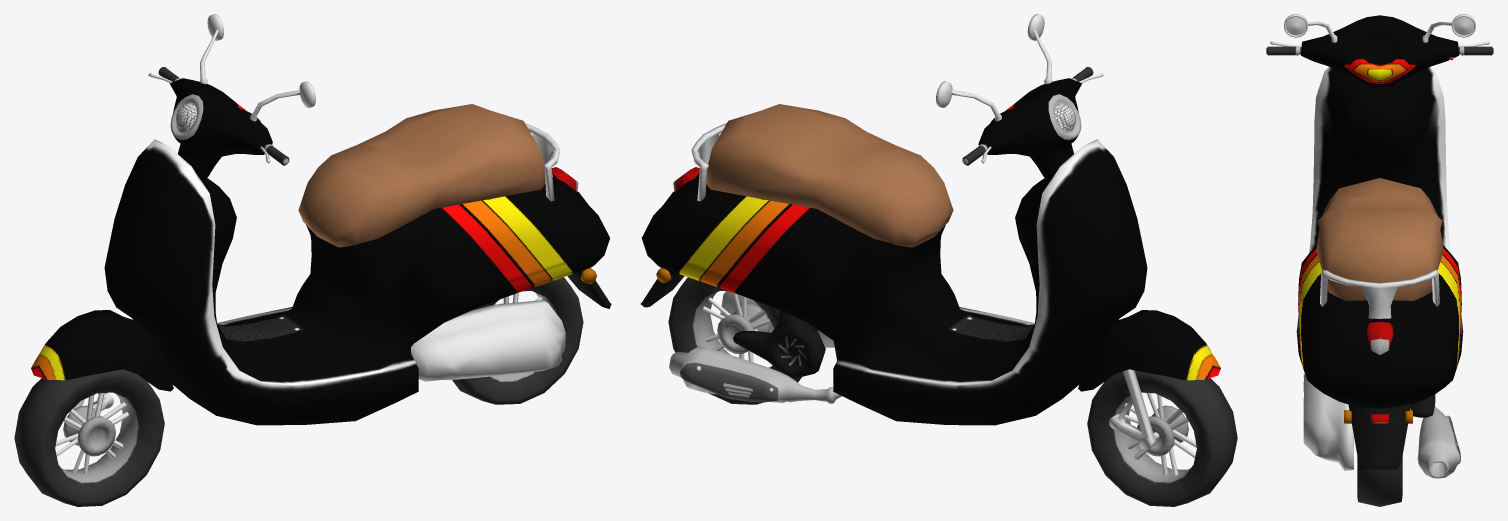
File: simplescooter_black.fbx
The picture shows the model from 3 angles, left to right: view 1: azimuth 30°, elevation 25°; view 2: azimuth 150°, elevation 25°; view 3: azimuth 270°, elevation 25°; orthographic projection. The views are drawn at different scales.
Parts seen in each view (by area): view 1: lowpolybase.008, lowpolybase.009, wheellowpoly.008, moteurlowpoly.004, devantrouelowpoly.004, devantlowpoly.004, wheellowpoly.009, tapislowpoly.004, derrierelowpoly.004, retrolowpoly.009; view 2: lowpolybase.008, lowpolybase.009, wheellowpoly.008, devantrouelowpoly.004, devantlowpoly.004, wheellowpoly.009, echaplowpoly.004, tapislowpoly.004, ventilolowpoly.004, Cylinder.005, derrierelowpoly.004, retrolowpoly.008; view 3: lowpolybase.008, lowpolybase.009, devantlowpoly.004, moteurlowpoly.004, trucderrirerelowpoly.004, echaplowpoly.004, derrierelowpoly.004, wheellowpoly.009, Plane.004, retrolowpoly.008, retrolowpoly.009, ventilolowpoly.004 (+2 smaller).
Part boxes in pixels (x1,y1,x2,y2): lowpolybase.008: [104, 139, 609, 425]; lowpolybase.009: [298, 104, 545, 247]; wheellowpoly.008: [14, 369, 164, 506]; moteurlowpoly.004: [411, 300, 565, 381]; devantrouelowpoly.004: [31, 310, 173, 391]; devantlowpoly.004: [169, 78, 272, 179]; wheellowpoly.009: [452, 277, 583, 404]; tapislowpoly.004: [232, 313, 384, 379]; derrierelowpoly.004: [525, 123, 560, 201]; retrolowpoly.009: [250, 81, 315, 121]; lowpolybase.008: [641, 139, 1147, 425]; lowpolybase.009: [706, 104, 953, 247]; wheellowpoly.008: [1087, 370, 1237, 506]; devantrouelowpoly.004: [1078, 310, 1220, 391]; devantlowpoly.004: [979, 78, 1081, 179]; wheellowpoly.009: [668, 277, 817, 404]; echaplowpoly.004: [669, 346, 841, 403]; tapislowpoly.004: [867, 313, 1019, 379]; ventilolowpoly.004: [733, 310, 825, 378]; Cylinder.005: [1109, 369, 1159, 449]; derrierelowpoly.004: [691, 123, 726, 201]; retrolowpoly.008: [936, 81, 1001, 121]; lowpolybase.008: [1296, 66, 1463, 408]; lowpolybase.009: [1316, 178, 1443, 300]; devantlowpoly.004: [1301, 15, 1458, 86]; moteurlowpoly.004: [1303, 374, 1353, 470]; trucderrirerelowpoly.004: [1348, 403, 1411, 469]; echaplowpoly.004: [1417, 406, 1460, 478]; derrierelowpoly.004: [1320, 269, 1439, 318]; wheellowpoly.009: [1357, 456, 1402, 506]; Plane.004: [1366, 321, 1393, 354]; retrolowpoly.008: [1422, 14, 1475, 42]; retrolowpoly.009: [1284, 14, 1337, 42]; ventilolowpoly.004: [1411, 394, 1435, 417].
Bounding box in the file's own units: 372 × 252 × 138.
1 material, 1 textured.
